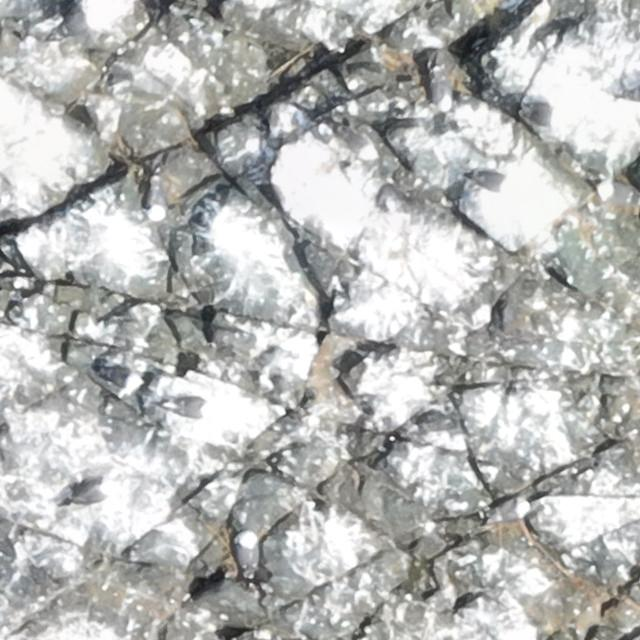umineko: (519, 96, 571, 129), (425, 56, 453, 111), (481, 496, 531, 526), (342, 122, 382, 159), (165, 392, 217, 419), (468, 170, 510, 190), (99, 368, 140, 388), (235, 534, 255, 572), (71, 484, 108, 504), (148, 180, 165, 216)
